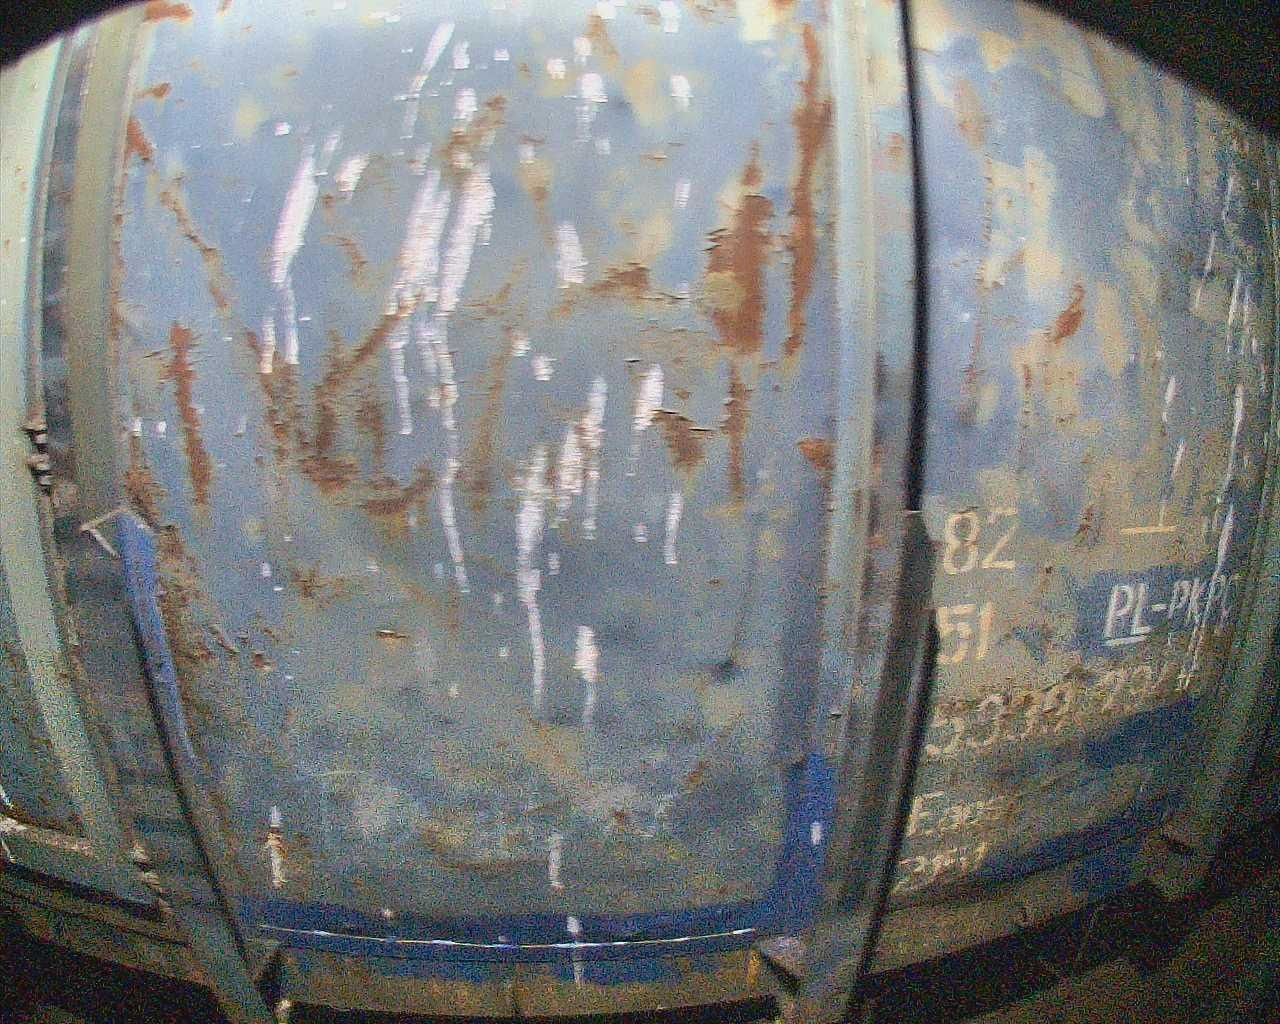UIC: (893, 507, 1240, 906)
